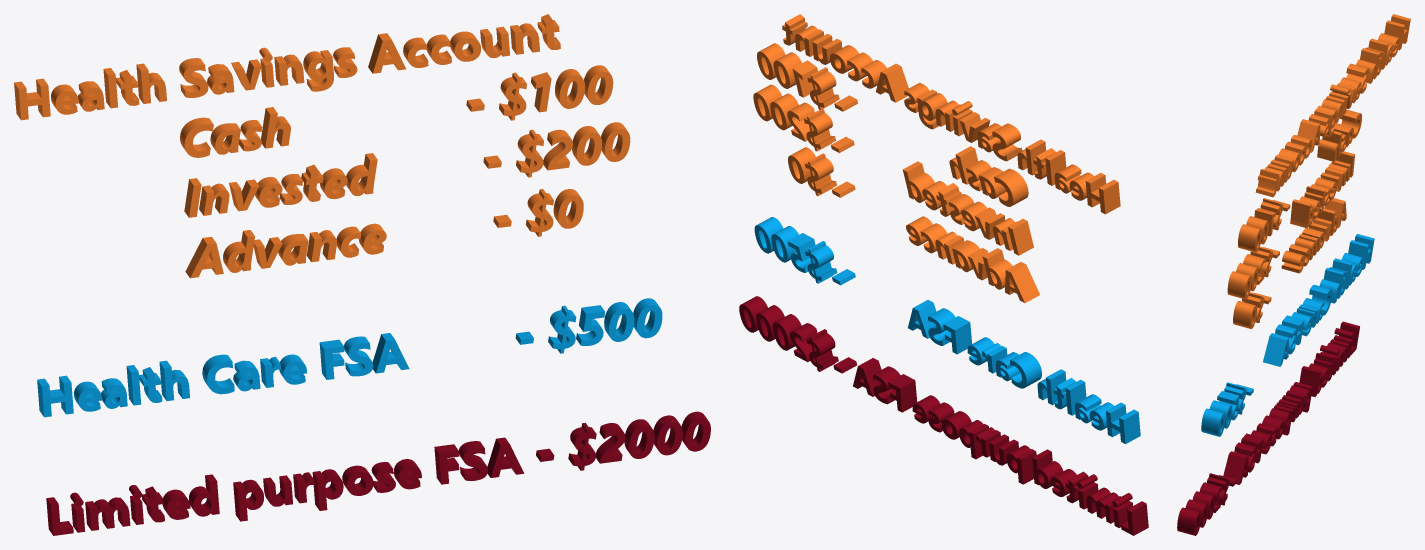
File: textOne.fbx
The picture shows the model from 3 angles, left to right: view 1: azimuth 30°, elevation 25°; view 2: azimuth 150°, elevation 25°; view 3: azimuth 270°, elevation 25°; orthographic projection. The views are drawn at different scales.
Visible parts, largest first — view 1: node_id64 (×8); view 2: node_id64 (×8); view 3: node_id64 (×8).
Part boxes in pixels (x1,y1,x2,y2): node_id64 (×8): (14,14,710,535); node_id64 (×8): (739,14,1148,535); node_id64 (×8): (1177,14,1410,535).
Bounding box in the file's own units: 0.4131 × 0.3145 × 0.19.
